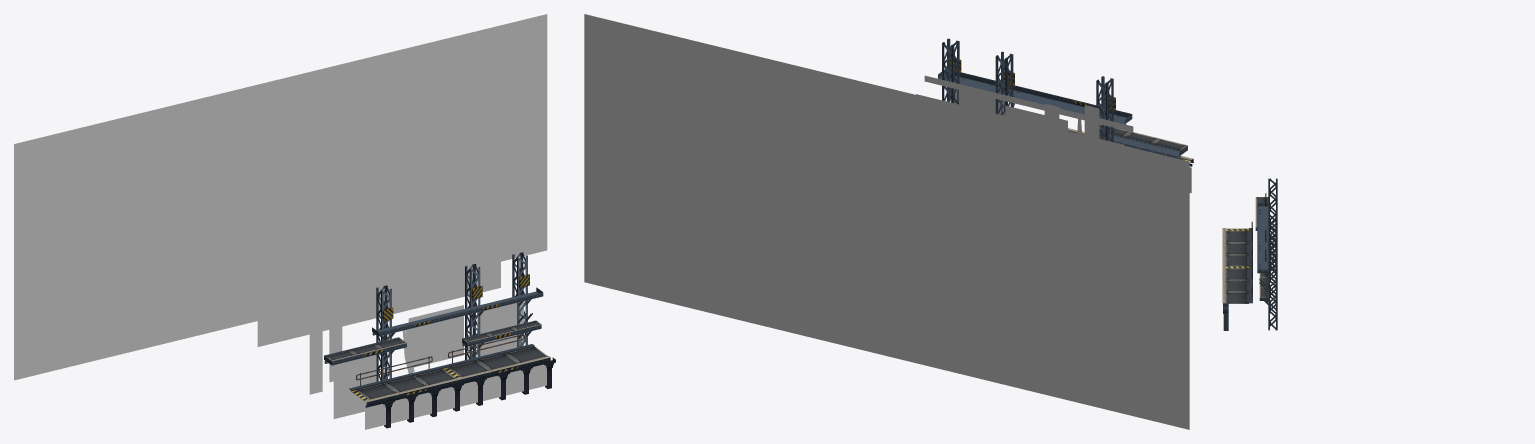
File: zhujiemian.fbx
3 renders of one model, left to right at view 1: azimuth 30°, elevation 25°; view 2: azimuth 150°, elevation 25°; view 3: azimuth 270°, elevation 25°, orthographic. The views are drawn at different scales.
Parts seen in each view (by area): view 1: alpha_beijing2, zhantai, alpha_zhantai, alpha_shuliang, alpha_shuliang_yuan, alpha_hengliang, alpha_hengliang_yuan; view 2: alpha_beijing2, zhantai, alpha_hengliang; view 3: zhantai.
Part boxes in pixels (x1,y1,x2,y2): alpha_beijing2: (14, 14, 547, 380); zhantai: (324, 252, 555, 429); alpha_zhantai: (257, 237, 500, 346); alpha_shuliang: (309, 252, 322, 394); alpha_shuliang_yuan: (329, 240, 342, 382); alpha_hengliang: (314, 251, 497, 301); alpha_hengliang_yuan: (306, 258, 489, 306); alpha_beijing2: (584, 14, 1189, 429); zhantai: (938, 38, 1193, 193); alpha_hengliang: (924, 75, 1133, 132); zhantai: (1222, 178, 1277, 330).
Bounding box in the file's own units: 75.9 × 32.16 × 43.9.
